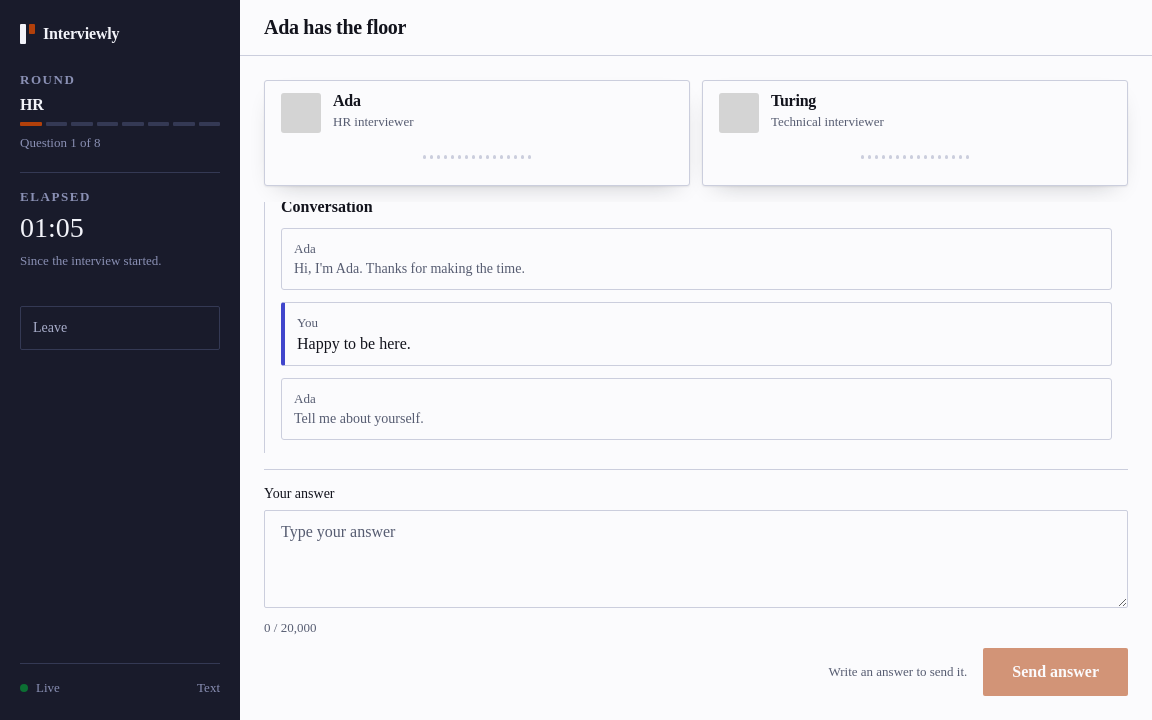
Test: leaving the room (issue 104) › promises a report on what was covered when turns have been answered
(page scrolled)
Click the button "Leave".
click(120, 328)  # box [20,306,220,350]
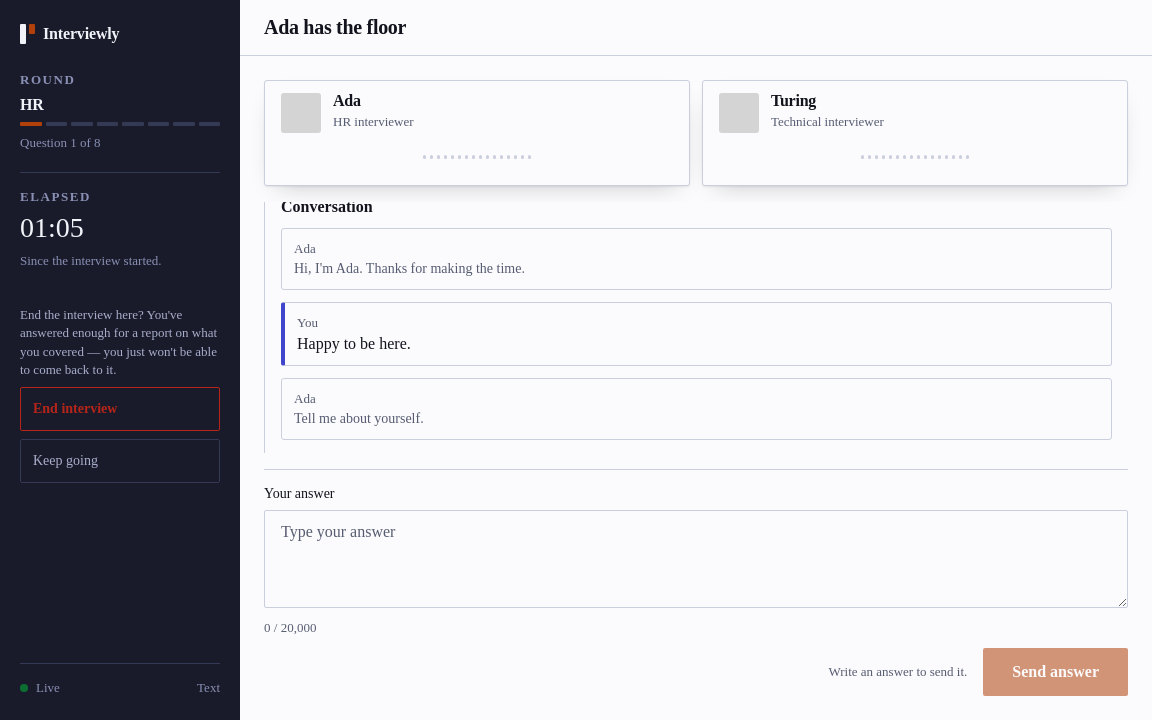
Expected: the element with test id "room-leave-confirm" shows "End the interview here? You've answered enough for a report on what you covered — you just won't be able to come back to it.", [20,307,217,377]
